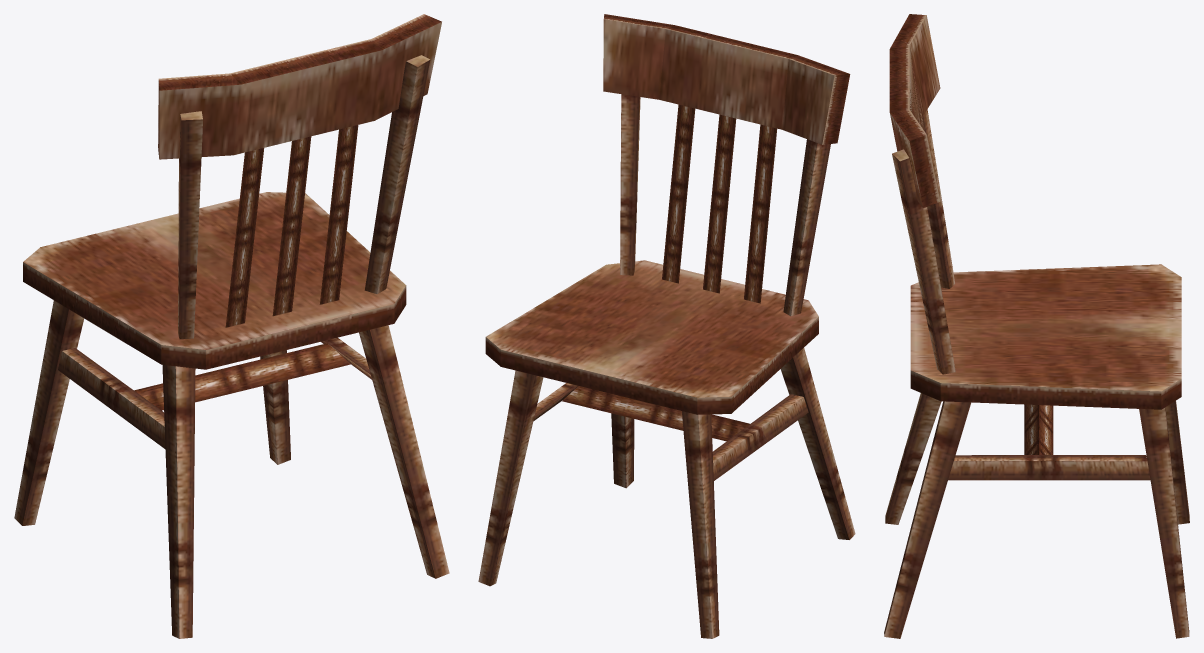
Rendered from kitchen_chair.fbx.
3 renders of one model, left to right at view 1: azimuth 30°, elevation 25°; view 2: azimuth 150°, elevation 25°; view 3: azimuth 270°, elevation 25°, orthographic. The views are drawn at different scales.
Parts seen in each view (by area): view 1: mesh_0, mesh_1; view 2: mesh_0, mesh_1; view 3: mesh_0, mesh_1.
Part boxes in pixels (x1=…): mesh_0: x1=14, y1=14, x2=449, y2=638; mesh_1: x1=134, y1=125, x2=358, y2=410; mesh_0: x1=478, y1=14, x2=855, y2=638; mesh_1: x1=562, y1=104, x2=777, y2=441; mesh_0: x1=884, y1=14, x2=1189, y2=638; mesh_1: x1=1024, y1=404, x2=1053, y2=454.
Bounding box in the file's own units: 60.07 × 111 × 60.96.
Materials: 2 (2 with a texture image).
